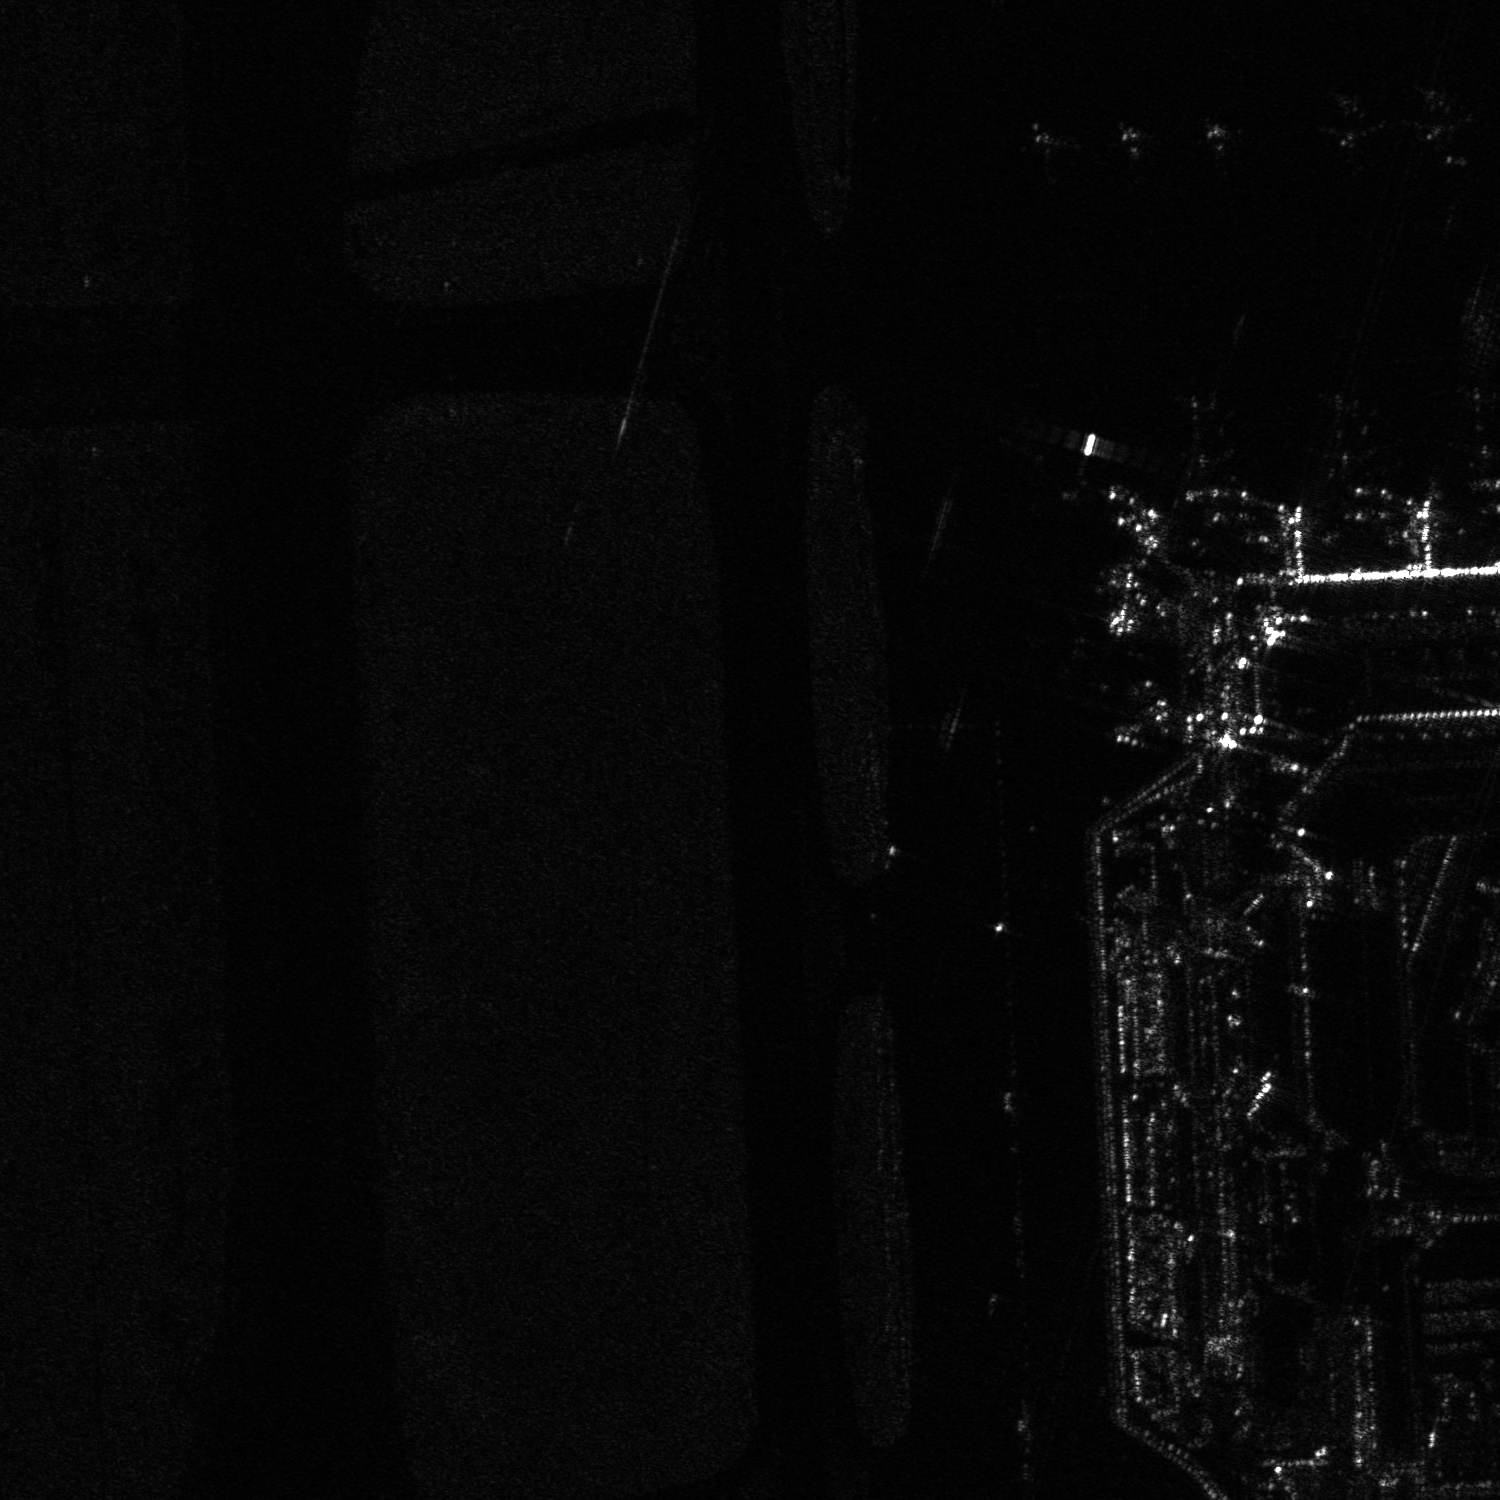A220: (1293, 389, 1404, 475), (1400, 87, 1479, 146), (1092, 120, 1172, 174)
A320/321: (1183, 115, 1251, 174)
ARJ21: (1003, 120, 1085, 188)
Boeing787: (1434, 389, 1499, 489)
other: (1159, 393, 1242, 479), (1310, 89, 1390, 148)
